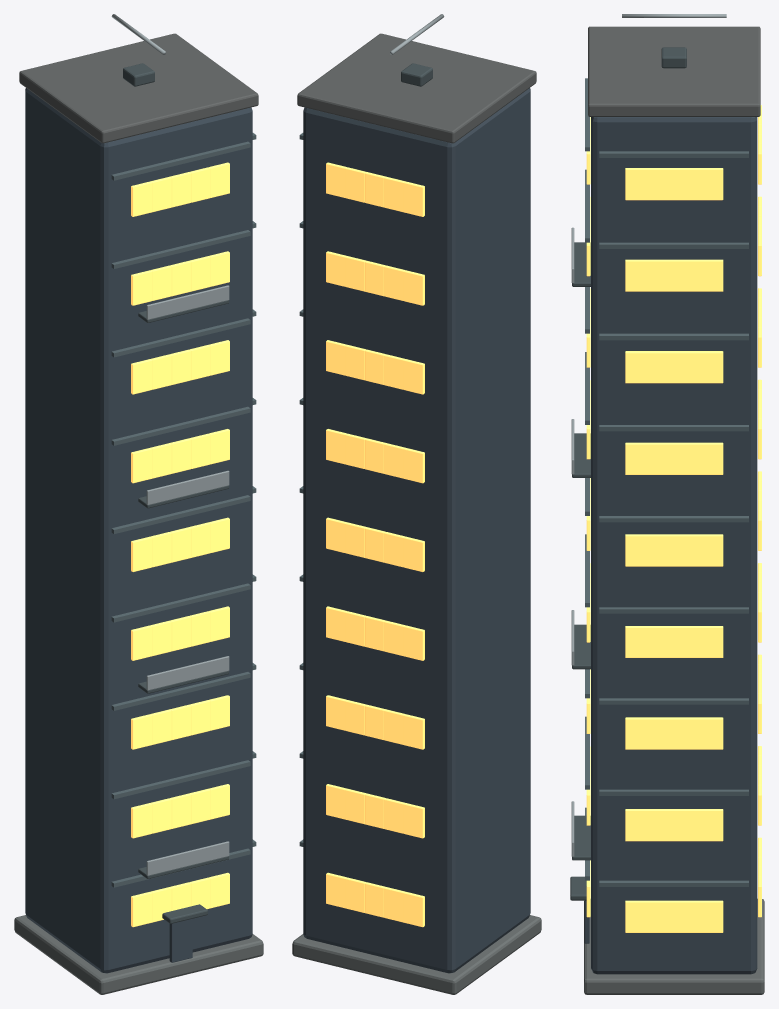
Rendered from residential_tower_slim.glb.
3 renders of one model, left to right at view 1: azimuth 30°, elevation 25°; view 2: azimuth 150°, elevation 25°; view 3: azimuth 270°, elevation 25°, orthographic. The views are drawn at different scales.
Visible parts, largest first — view 1: main_massing, roof_slab, foundation, balcony_rail.001, balcony_rail.003, balcony_rail, balcony_rail.002, facade_band_front.008, facade_band_front.001, facade_band_front.003, facade_band_front.005, facade_band_front.006 (+48 smaller); view 2: main_massing, roof_slab, foundation, rear_window.005, rear_window.010, rear_window, rear_window.015, rear_window.030, rear_window.035, rear_window.040, rear_window.020, rear_window.025 (+37 smaller); view 3: main_massing, roof_slab, foundation, facade_band_side.006, facade_band_side, facade_band_side.001, facade_band_side.002, facade_band_side.003, facade_band_side.004, facade_band_side.005, facade_band_side.007, facade_band_side.008 (+41 smaller).
Boxes of the visible parts, box(x1,y1,x2,y2) form: main_massing: box(25, 88, 252, 973); roof_slab: box(19, 33, 258, 143); foundation: box(14, 915, 263, 994); balcony_rail.001: box(146, 656, 229, 690); balcony_rail.003: box(146, 285, 229, 319); balcony_rail: box(146, 841, 229, 875); balcony_rail.002: box(146, 470, 229, 504); facade_band_front.008: box(111, 141, 250, 180); facade_band_front.001: box(111, 760, 250, 799); facade_band_front.003: box(111, 583, 250, 622); facade_band_front.005: box(111, 406, 250, 445); facade_band_front.006: box(111, 318, 250, 357); main_massing: box(303, 88, 530, 973); roof_slab: box(297, 33, 536, 143); foundation: box(292, 915, 541, 994); rear_window.005: box(403, 803, 424, 838); rear_window.010: box(403, 714, 424, 749); rear_window: box(403, 891, 424, 927); rear_window.015: box(403, 625, 424, 660); rear_window.030: box(403, 359, 424, 394); rear_window.035: box(403, 270, 424, 305); rear_window.040: box(403, 181, 424, 216); rear_window.020: box(403, 536, 424, 571); rear_window.025: box(403, 447, 424, 483); main_massing: box(591, 117, 757, 974); roof_slab: box(588, 26, 760, 116); foundation: box(584, 898, 764, 994); facade_band_side.006: box(599, 333, 748, 340); facade_band_side: box(599, 880, 748, 886); facade_band_side.001: box(599, 789, 748, 795); facade_band_side.002: box(599, 698, 748, 704); facade_band_side.003: box(599, 607, 748, 613); facade_band_side.004: box(599, 516, 748, 522); facade_band_side.005: box(599, 425, 748, 431); facade_band_side.007: box(599, 242, 748, 248); facade_band_side.008: box(599, 151, 748, 157).
Size of the model in its own units: 1.08 by 5.74 by 1.07.
